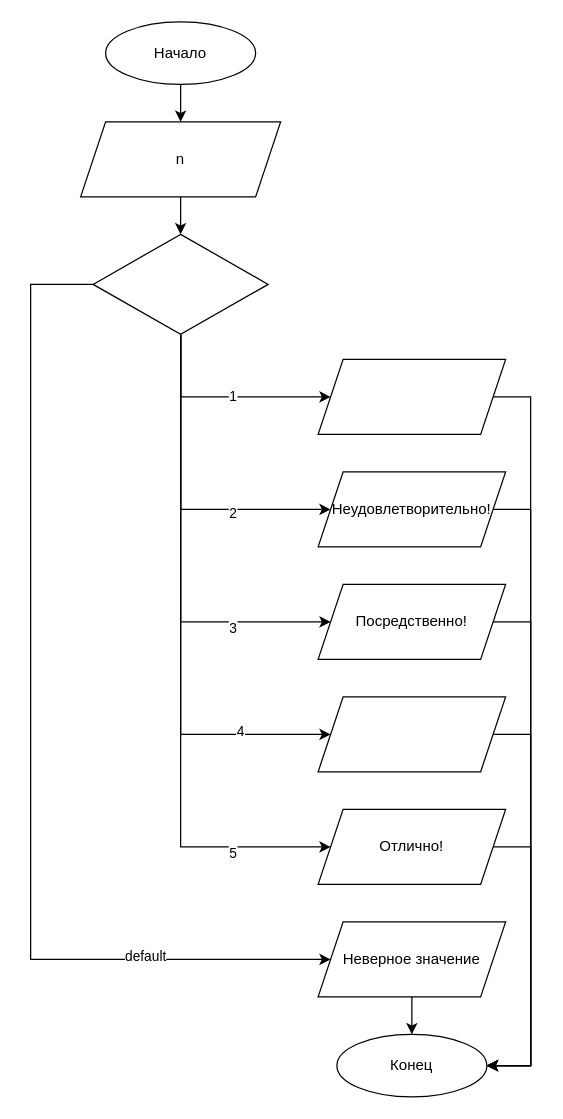
Image size: 563x1119. Some labels were removed from this diagram. Each missing label, with the box of its shape:
switch n: (92, 233, 268, 334)
Плохо!: (317, 358, 506, 434)
Хорошо!: (317, 696, 506, 772)
